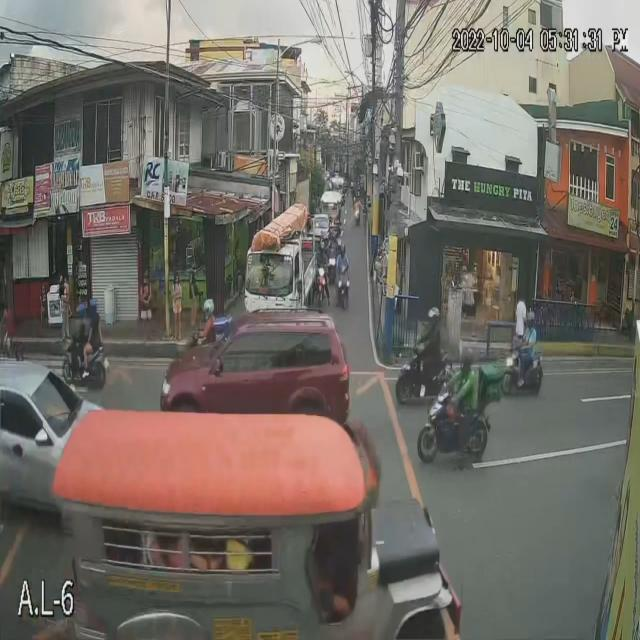full: (458, 344, 474, 378), (428, 304, 441, 331), (202, 298, 214, 319), (525, 311, 536, 331)
